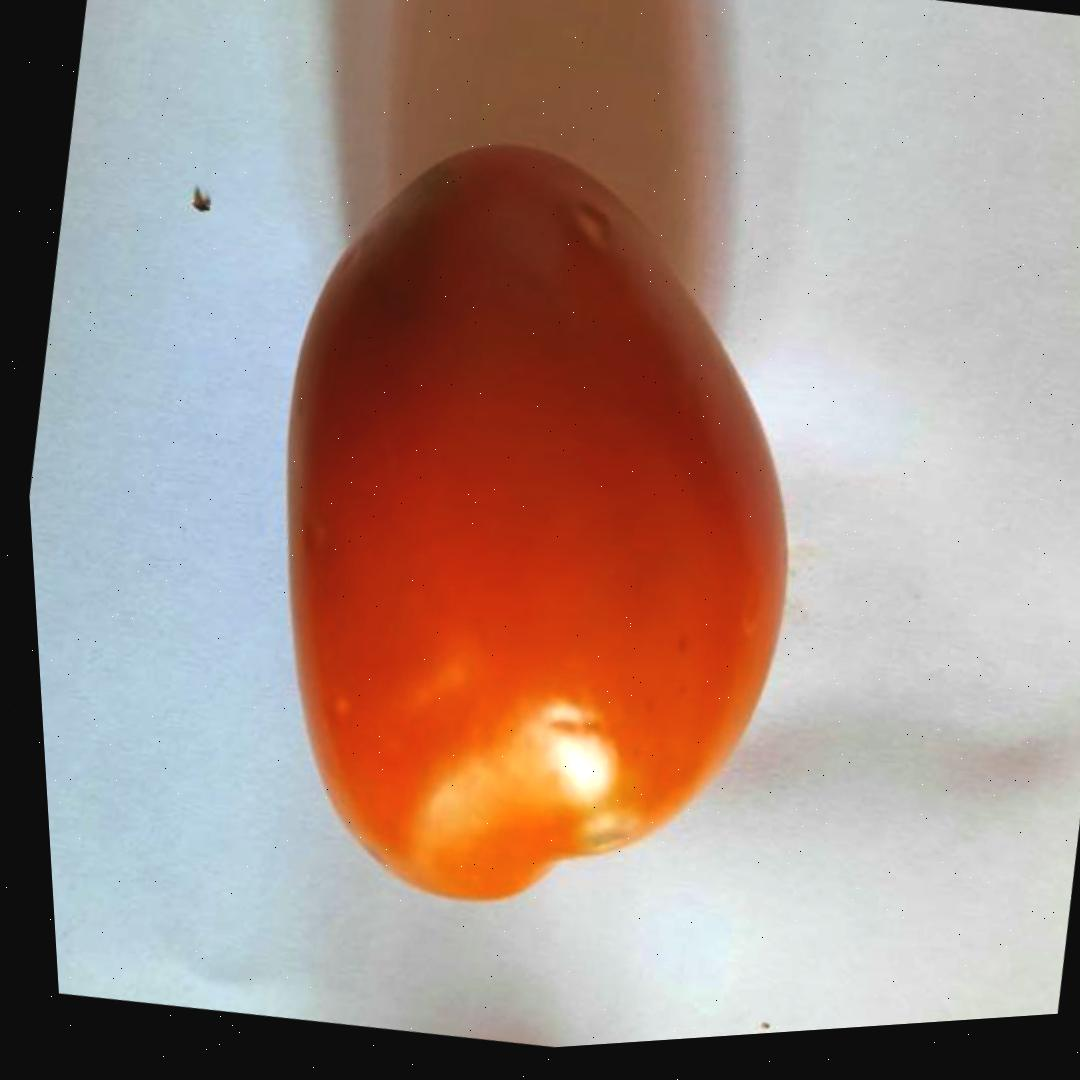matang: (186, 80, 879, 965)
